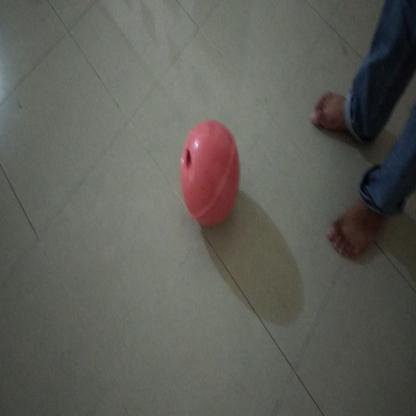red_buoy: (177, 118, 242, 228)
